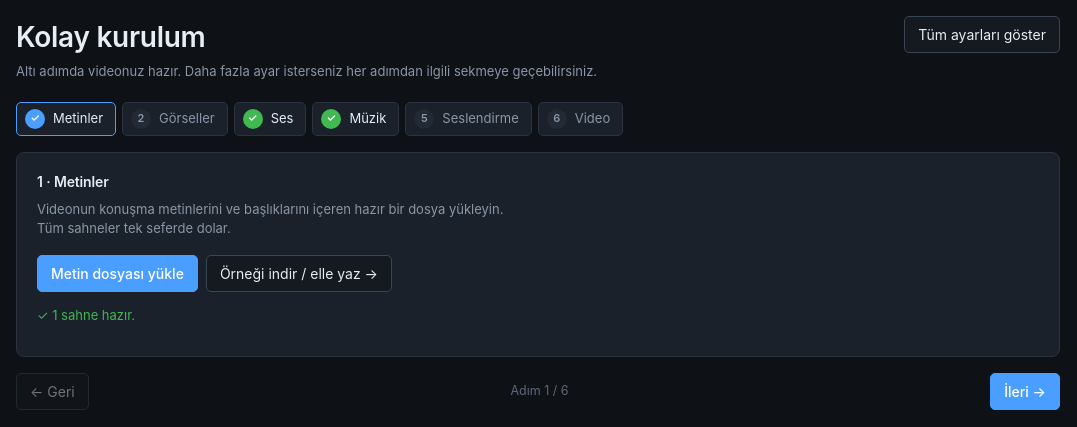
Test case: SimpleModePage › navigates between steps via the stepper chips
The image size is (1077, 427).
What coordinates should you click on to do the following:
click the button "5 Seslendirme"
I would click on:
 (468, 118)
Its box is [405,102,532,136].
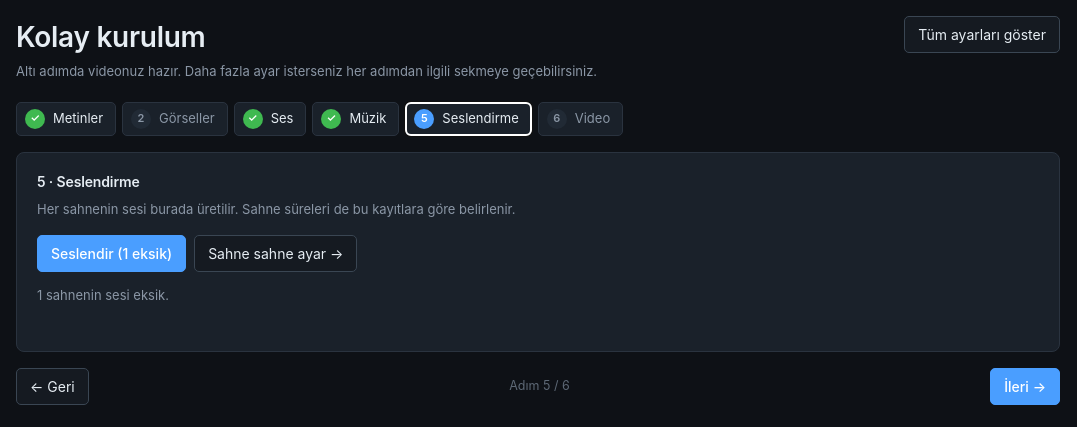
Expected: the heading "5 · Seslendirme" is shown, [37,172,140,190]
